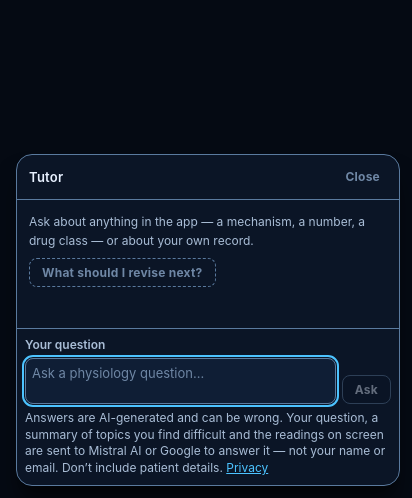
Test case: ChatPanel › falls back after the daily cap too, not only on a network failure
Type "how does carbon dioxide change the pH" into the text box labelled "Your question" at (180, 381), box [25,358,336,404]
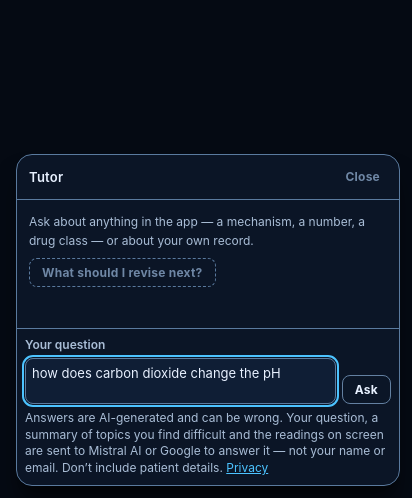
Click the button "Ask" at (366, 389), box [342,375,391,404]
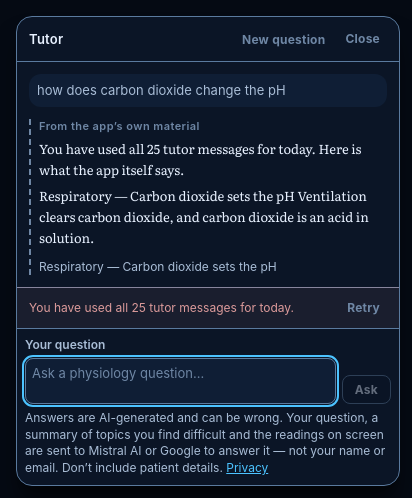
Result: the text "From the app’s own material" is shown at [39,119,200,133]
Result: the message shows "all 25 tutor messages" at [29,300,294,315]
